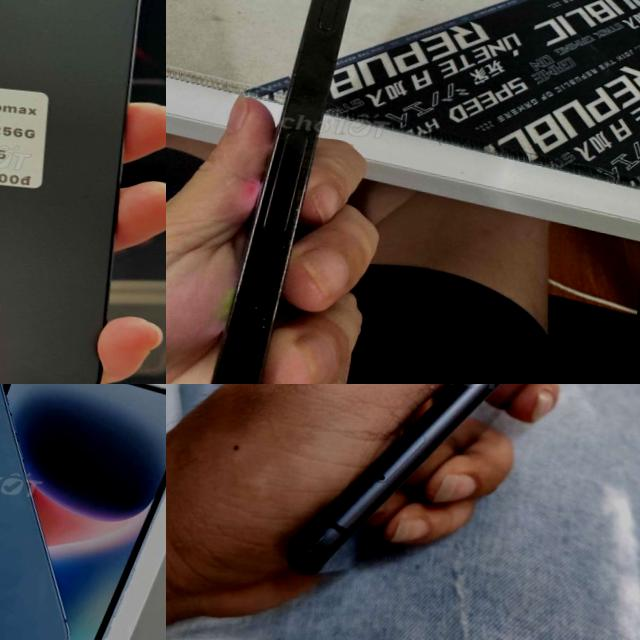scratch: (236, 296, 280, 384), (270, 178, 310, 262), (298, 530, 328, 560)
